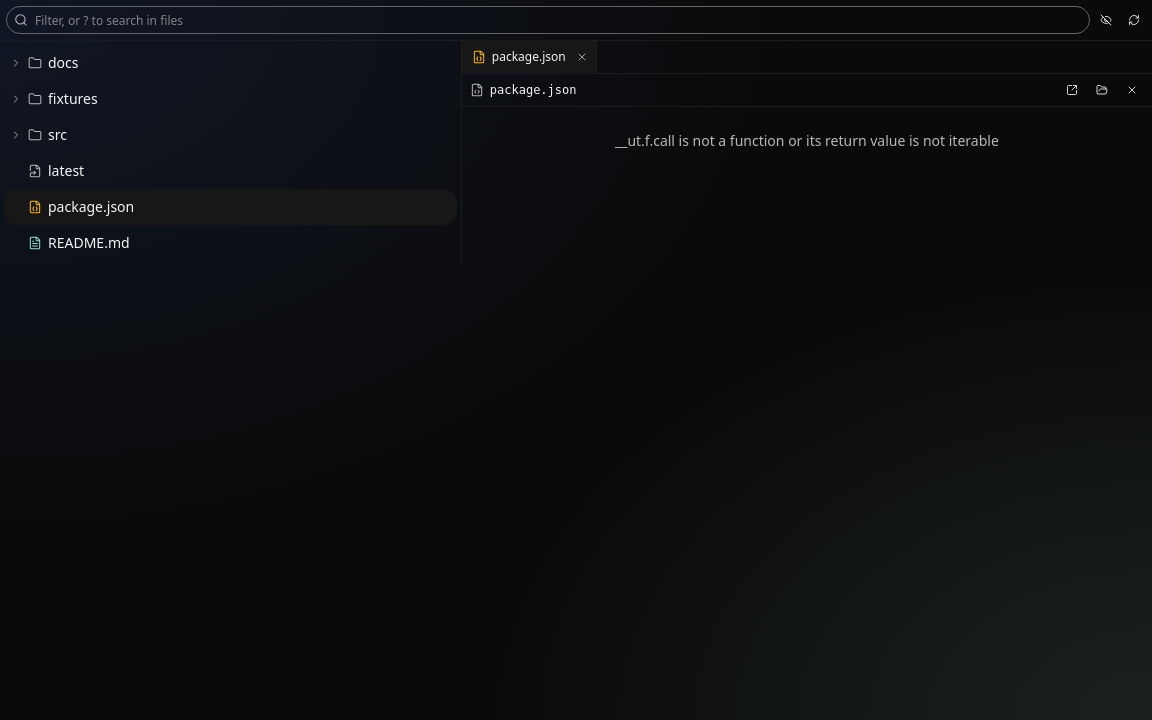
Files tabs › closes the preview with its last tab
This screenshot has width=1152, height=720.
What coordinates should you click on to do the following:
click the button named "Close preview"
I would click on:
 (1132, 90)
Its box is left=1120, top=78, right=1144, bottom=102.
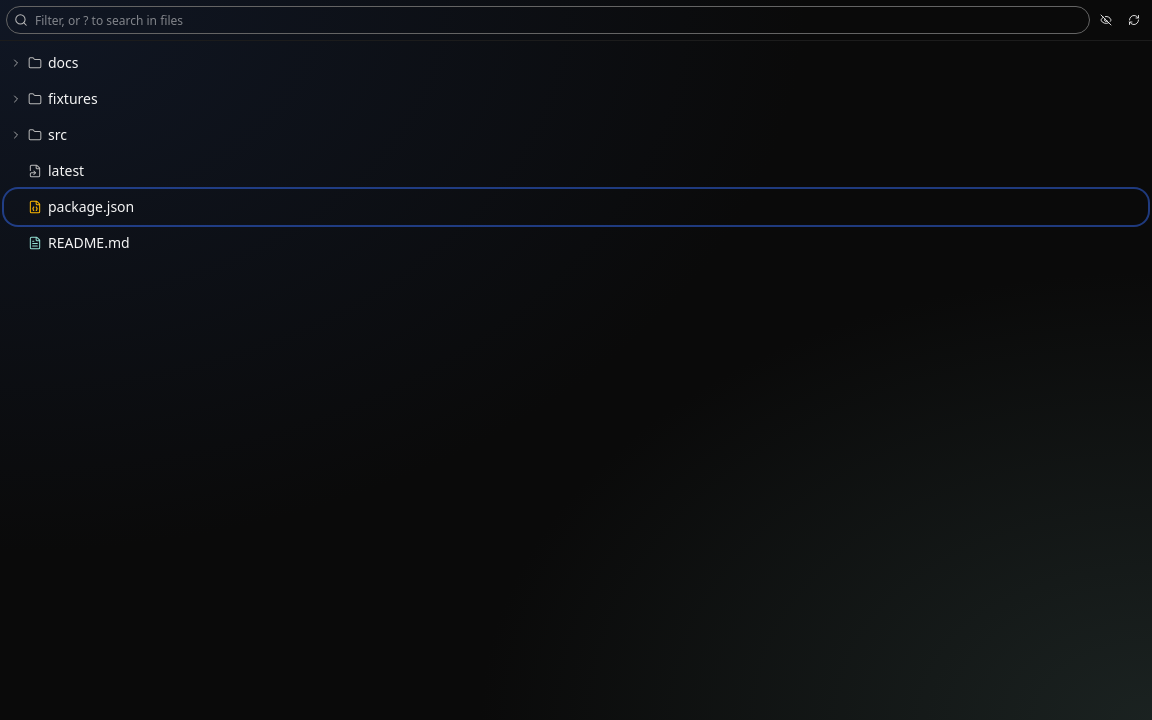
Expected: the element with test id "file-preview" is gone
